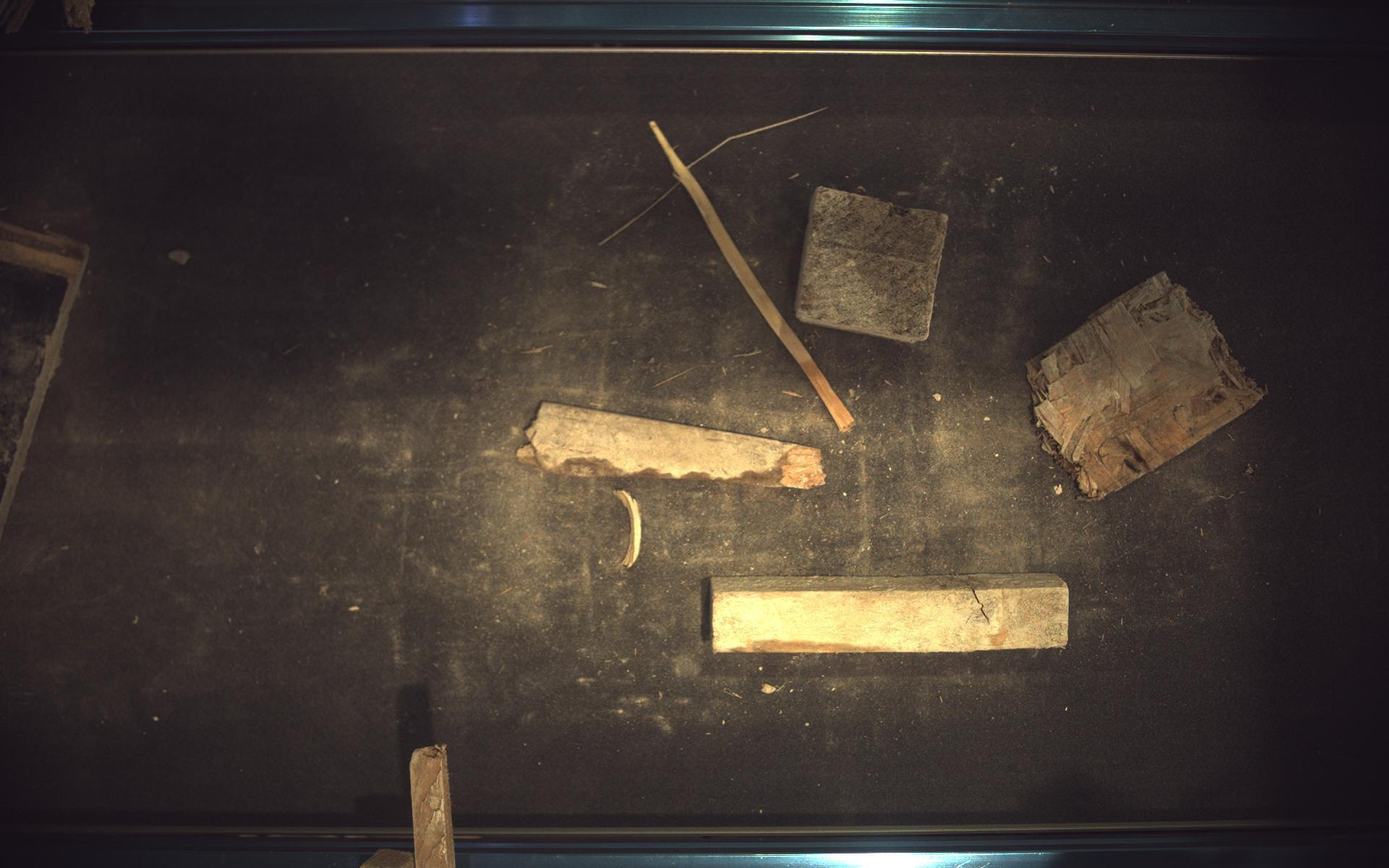wood: (651, 121, 856, 432), (1029, 271, 1269, 501), (712, 574, 1071, 654), (517, 401, 827, 489), (797, 186, 949, 342), (616, 490, 642, 569)
